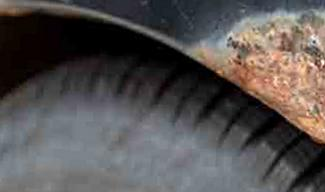rust: (230, 22, 325, 132)
